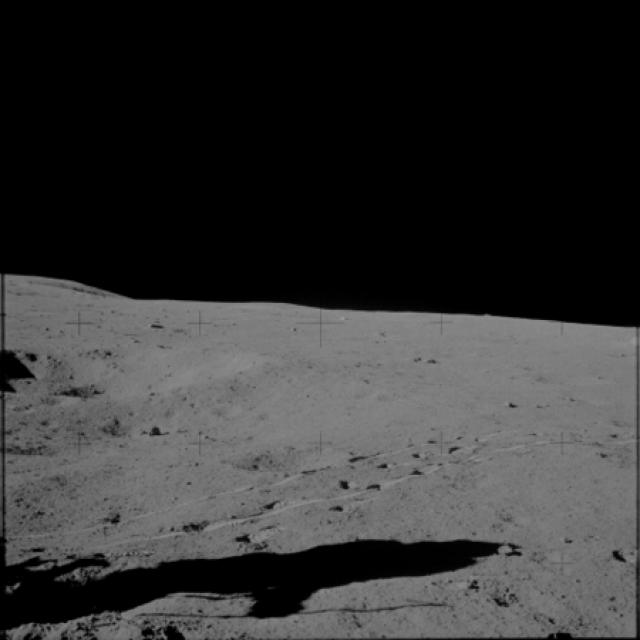crater: (0, 328, 287, 417), (213, 432, 342, 476), (90, 414, 145, 442), (226, 524, 274, 556), (440, 572, 486, 604), (594, 544, 640, 571), (362, 473, 394, 497), (256, 494, 291, 515), (370, 453, 396, 476), (406, 462, 435, 482), (324, 472, 353, 491), (442, 443, 473, 459), (331, 499, 355, 515), (408, 447, 433, 462)
